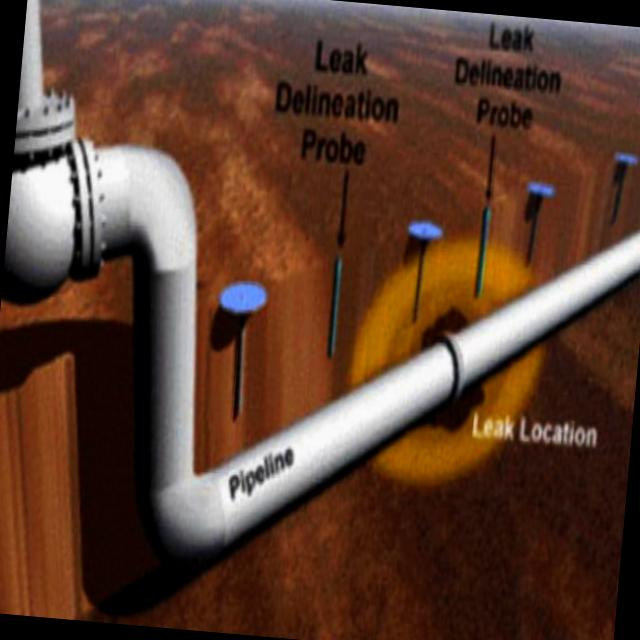gas: (149, 229, 640, 560)
